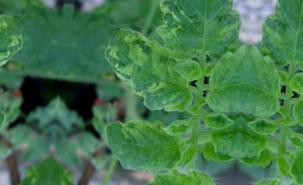Tomato leaf mosaic virus: (97, 27, 203, 115), (152, 0, 252, 74), (90, 115, 187, 178), (198, 36, 251, 123), (112, 158, 204, 185)
